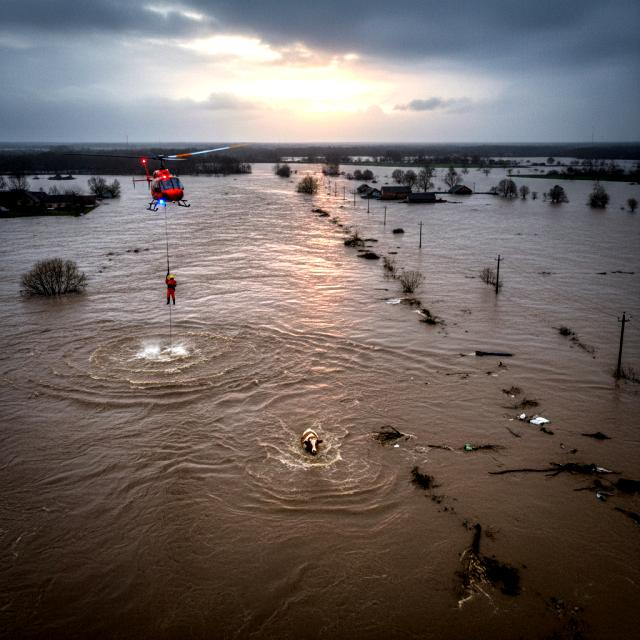cow: (293, 418, 331, 467)
rescuer: (161, 271, 182, 307)
